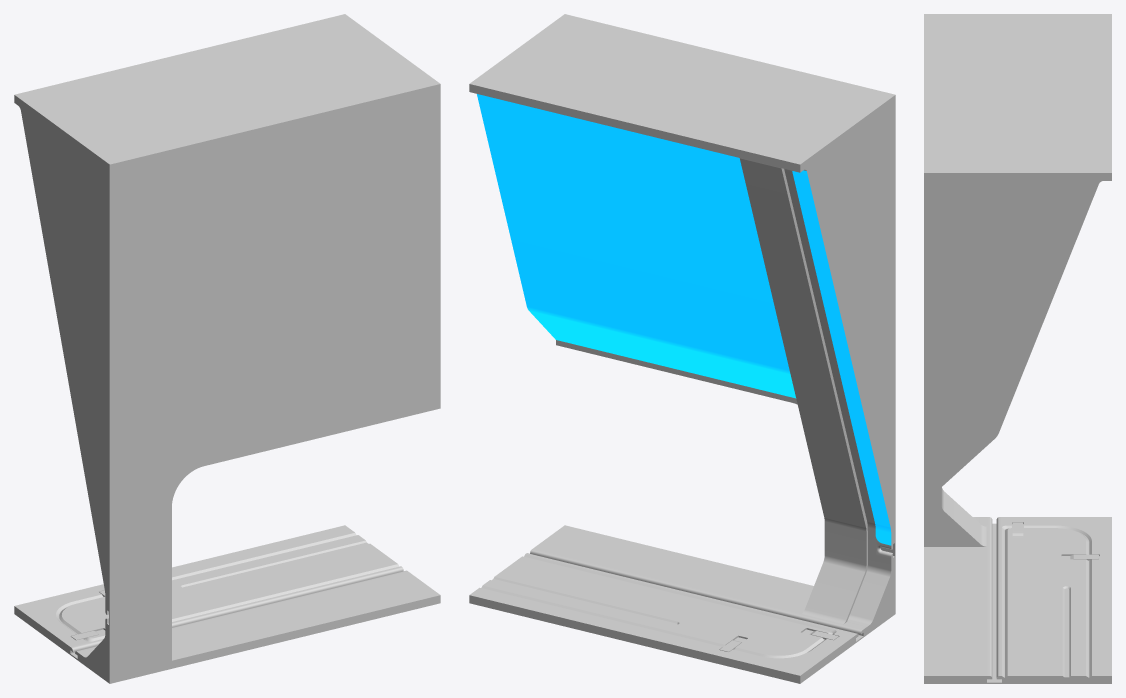
The model's file is SM_MOD_Laser_Wall_04_DoorWall_02_R.fbx.
3 renders of one model, left to right at view 1: azimuth 30°, elevation 25°; view 2: azimuth 150°, elevation 25°; view 3: azimuth 270°, elevation 25°, orthographic.
Parts seen in each view (by area): view 1: SM_MOD_Laser_Wall_04_DoorWall_02_R_LOD0; view 2: SM_MOD_Laser_Wall_04_DoorWall_02_R_LOD0; view 3: SM_MOD_Laser_Wall_04_DoorWall_02_R_LOD0.
Boxes of the visible parts, x1,y1,x2,y2 form: SM_MOD_Laser_Wall_04_DoorWall_02_R_LOD0: [14, 14, 440, 683]; SM_MOD_Laser_Wall_04_DoorWall_02_R_LOD0: [469, 14, 895, 683]; SM_MOD_Laser_Wall_04_DoorWall_02_R_LOD0: [924, 14, 1111, 683].
Size of what is drawn, in the model's own units: 512 by 768 by 256.
